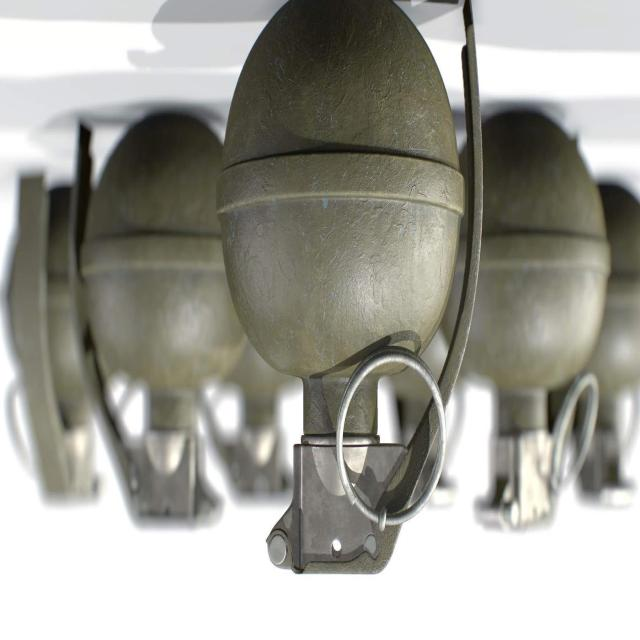grenade: (220, 2, 485, 575), (71, 119, 250, 530), (441, 108, 612, 536), (2, 172, 102, 510), (559, 183, 640, 513), (202, 338, 304, 508)
